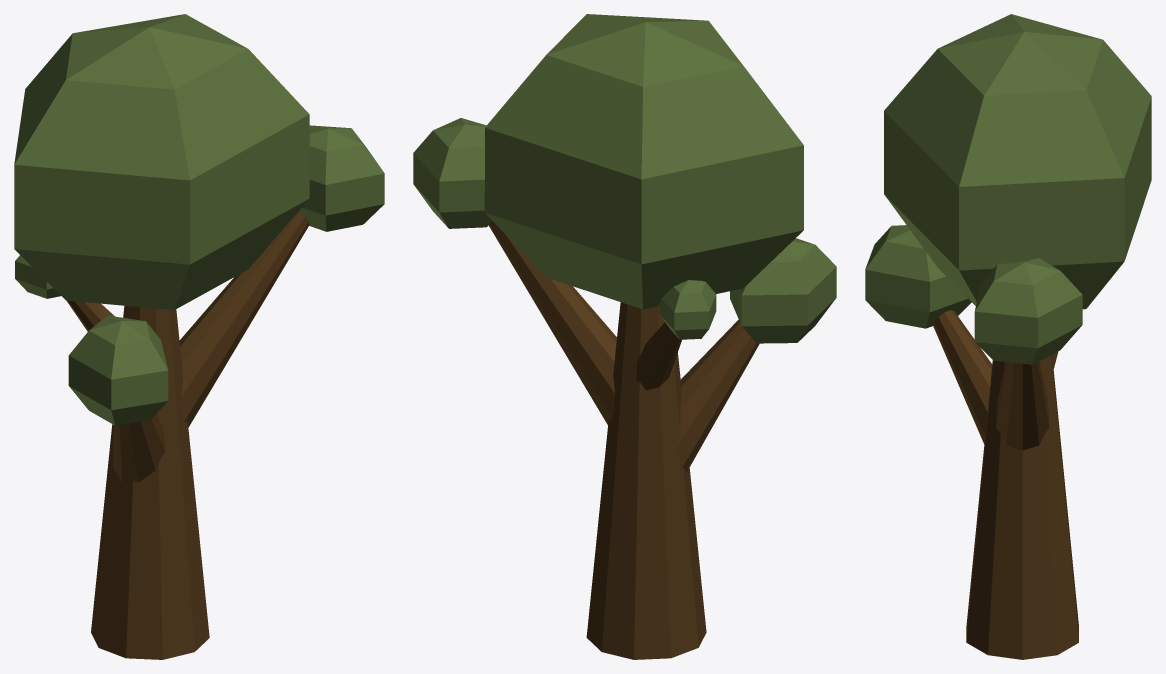
File: Arbolito Xd.fbx
3 views of the same model, side by side, from view 1: azimuth 30°, elevation 25°; view 2: azimuth 150°, elevation 25°; view 3: azimuth 270°, elevation 25° (orthographic).
Parts seen in each view (by area): view 1: pSphere11; view 2: pSphere11; view 3: pSphere11.
Boxes of the visible parts, x1,y1,x2,y2 form: pSphere11: (14, 14, 384, 659); pSphere11: (413, 14, 836, 659); pSphere11: (865, 14, 1151, 659).
Bounding box in the file's own units: 3.02 × 4.75 × 2.05.
